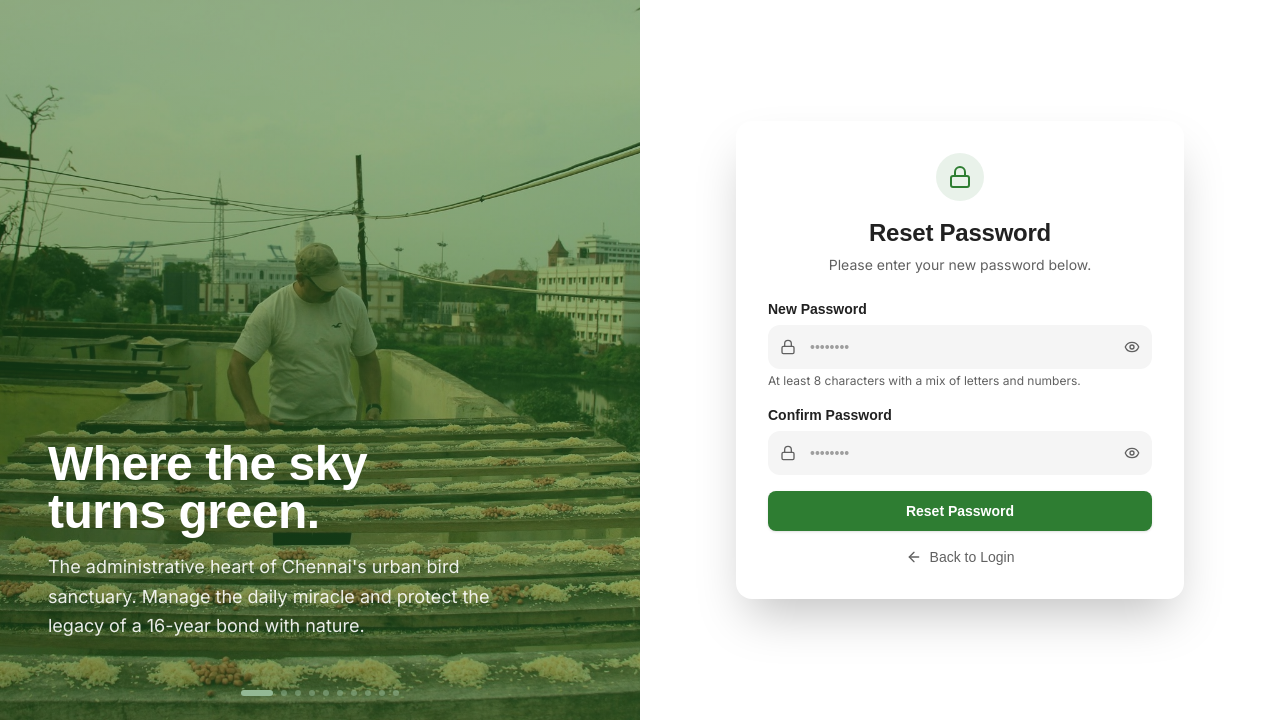
Scenario: Reset Password Page › Form Validation › shows error when passwords do not match
In the password field labelled "New Password": (960, 347) [768,325,1152,369], type "NewPass123"
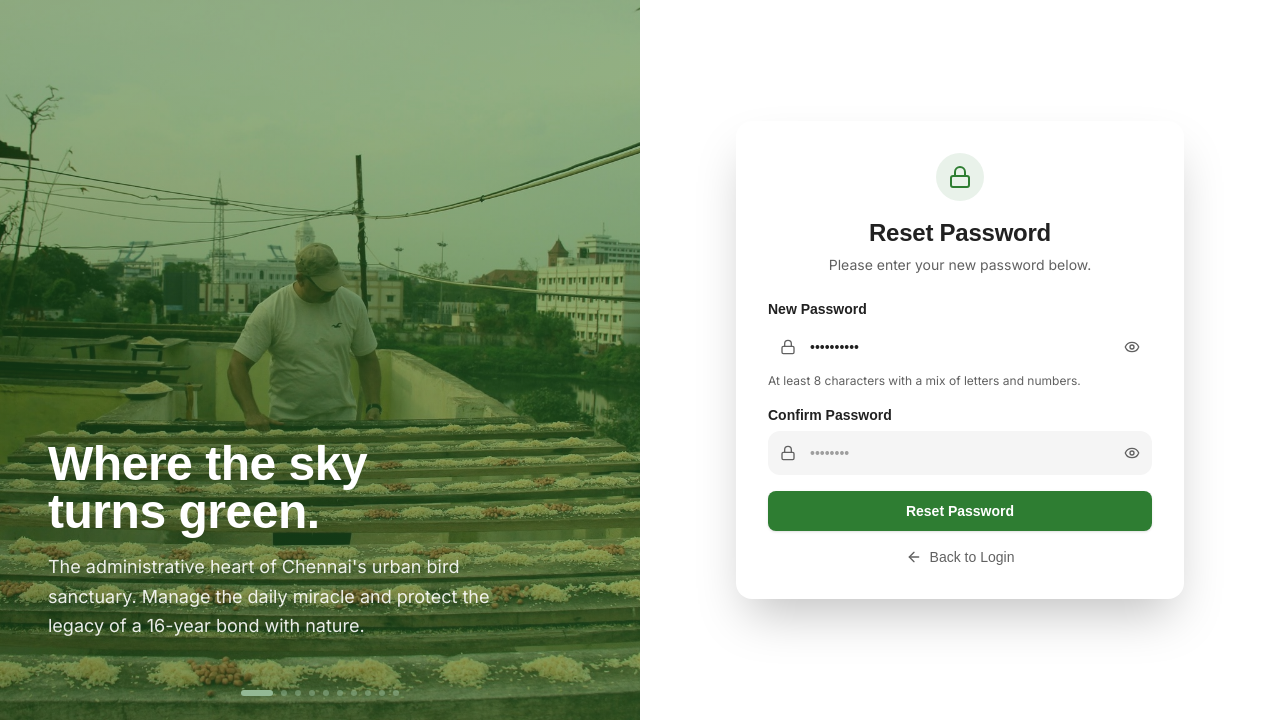
In the password field labelled "Confirm Password": (960, 453) [768,431,1152,475], type "DifferentPass123"
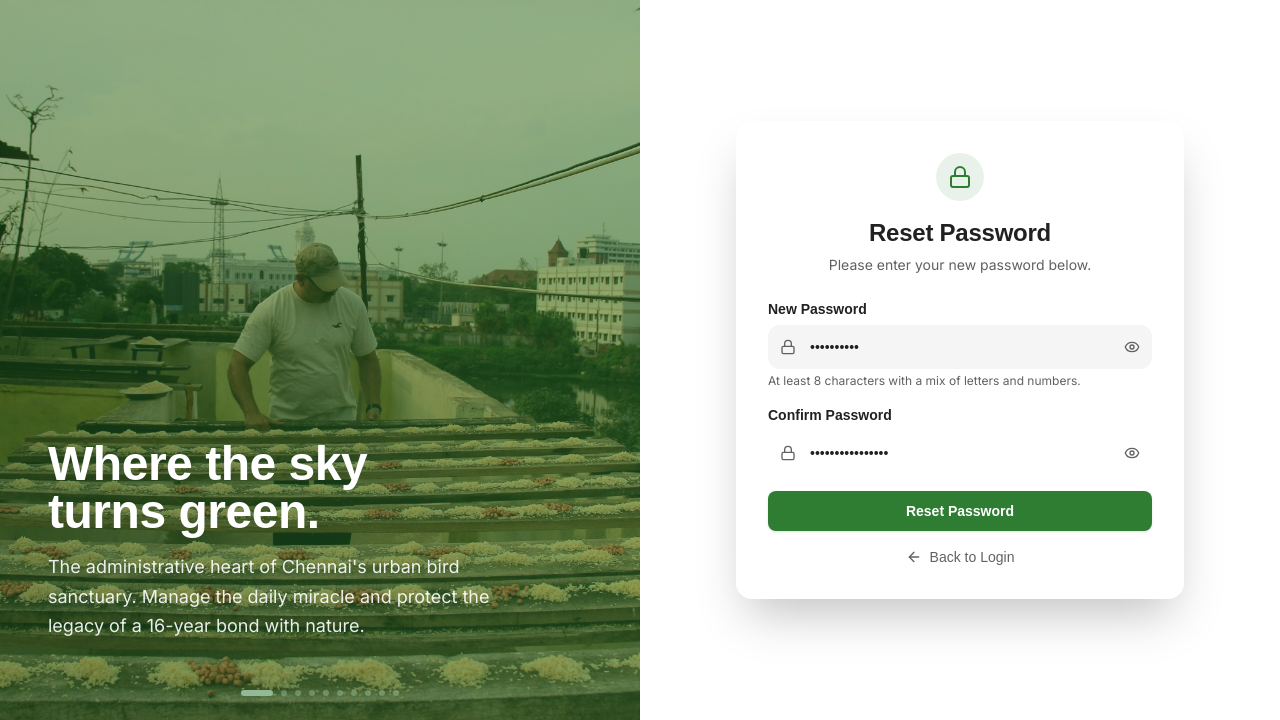
Click the button "Reset Password": (960, 511) [768,491,1152,531]
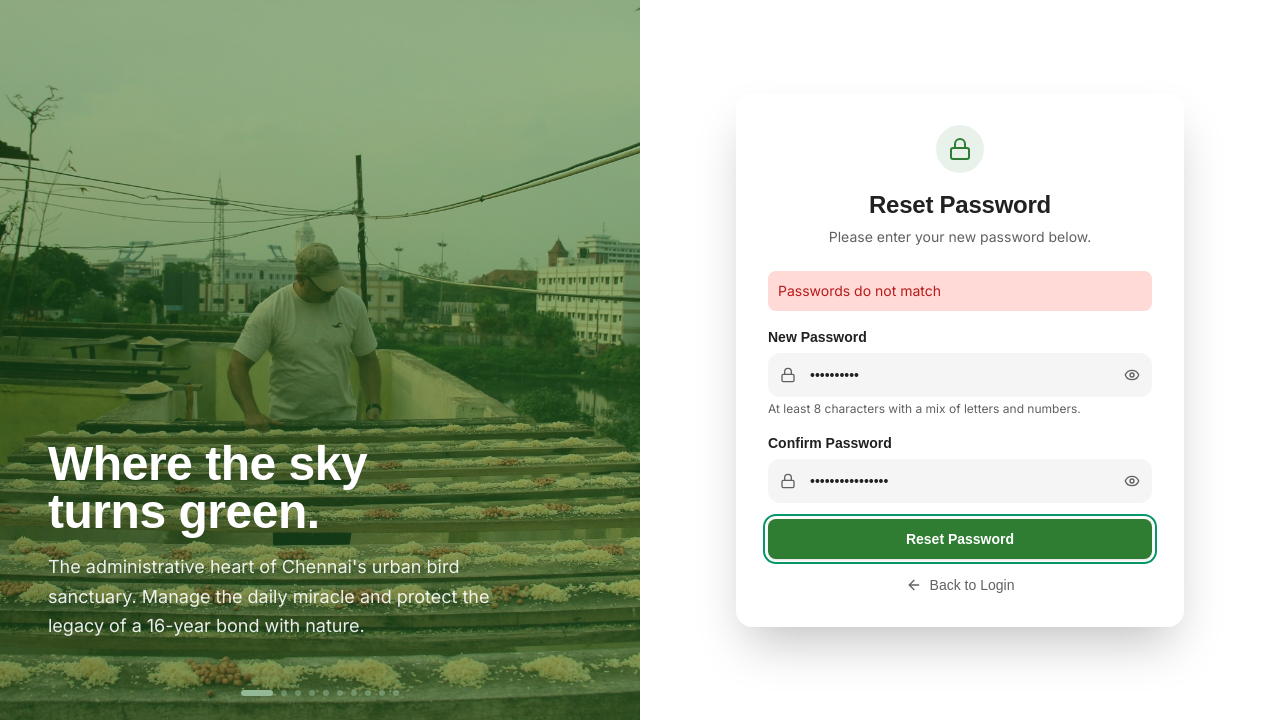
Now the text "Passwords do not match" is shown, box [768,271,1152,311]
